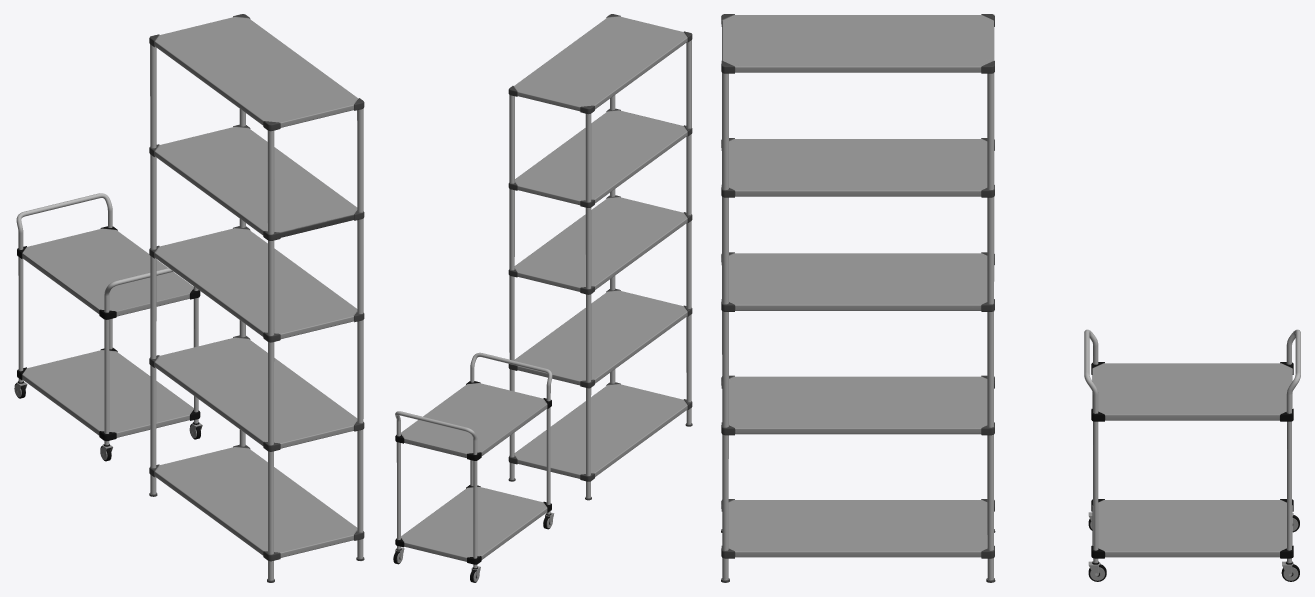
The model's file is lab_shelf__utility_cart__virus_laboratory.glb.
3 views of the same model, side by side, from view 1: azimuth 30°, elevation 25°; view 2: azimuth 150°, elevation 25°; view 3: azimuth 270°, elevation 25° (orthographic). The views are drawn at different scales.
Parts seen in each view (by area): view 1: polySurface27, pCube26; view 2: polySurface27, pCube26; view 3: polySurface27, pCube26.
Boxes of the visible parts, bbox=[...] form: polySurface27: bbox=[149, 14, 364, 582]; pCube26: bbox=[14, 193, 202, 461]; polySurface27: bbox=[508, 14, 692, 500]; pCube26: bbox=[393, 352, 554, 582]; polySurface27: bbox=[721, 14, 995, 582]; pCube26: bbox=[1084, 329, 1300, 581].
Bounding box in the file's own units: 0.5516 × 2.5 × 2.54.
Materials: 2 (2 with a texture image).
